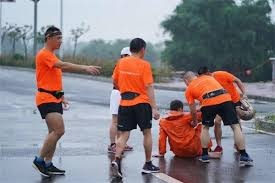falling: (157, 95, 205, 162)
